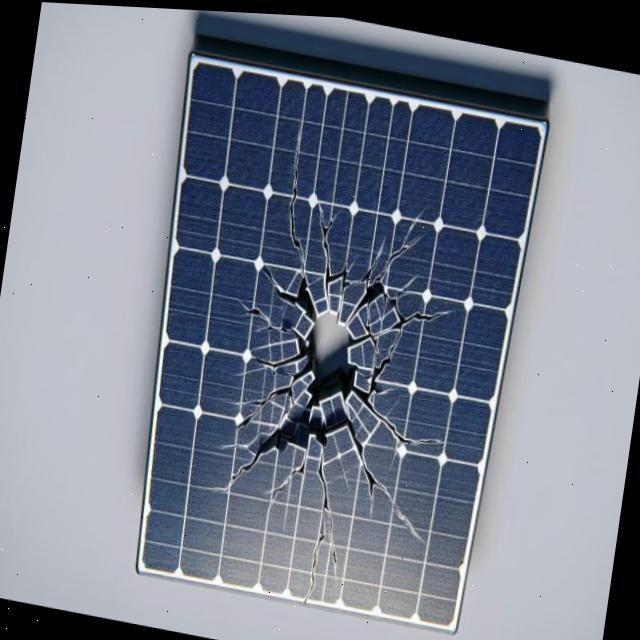Anomaly Solar Panel: (118, 56, 546, 631)
Structural Damage: (273, 291, 365, 461), (338, 270, 453, 398), (322, 422, 424, 558), (350, 373, 442, 469), (301, 445, 346, 606), (360, 206, 434, 284), (310, 197, 354, 306), (220, 374, 298, 431), (256, 446, 319, 505), (284, 123, 304, 274), (228, 292, 282, 344), (333, 275, 391, 323), (277, 274, 328, 326), (349, 228, 388, 292), (215, 451, 262, 493), (215, 422, 268, 456), (247, 350, 299, 375), (354, 306, 380, 351), (259, 421, 286, 457), (258, 259, 277, 287), (233, 365, 264, 376)
